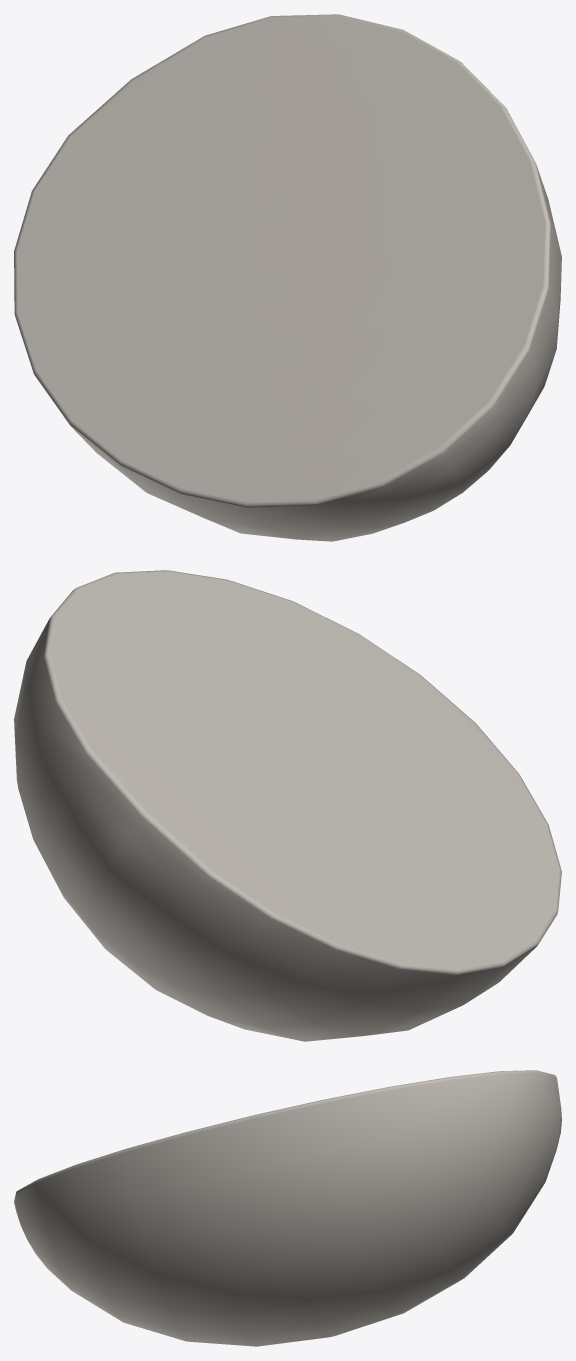
File: ref_bfegghalf.fbx
3 views of the same model, one above another, from view 1: azimuth 30°, elevation 25°; view 2: azimuth 150°, elevation 25°; view 3: azimuth 270°, elevation 25° (orthographic). The views are drawn at different scales.
Parts seen in each view (by area): view 1: ref_bfegghalf; view 2: ref_bfegghalf; view 3: ref_bfegghalf.
Part boxes in pixels (x1=…): ref_bfegghalf: x1=14, y1=14, x2=561, y2=541; ref_bfegghalf: x1=14, y1=570, x2=561, y2=1041; ref_bfegghalf: x1=14, y1=1070, x2=561, y2=1346.
Bounding box in the file's own units: 78.23 × 65.11 × 100.
